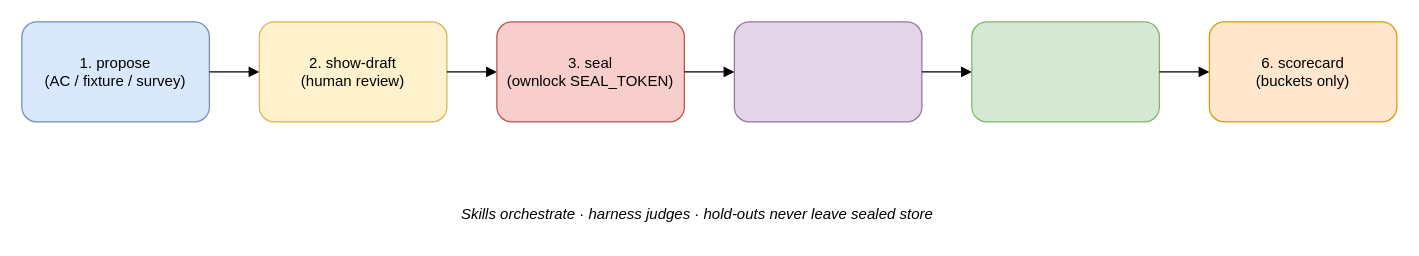
Image size: 1419x256. Some labels were removed from this diagram. The centre of each missing label's shape, as x and y in pixels:
"4. publish (public task card)" goes at (x=827, y=71).
"5. grade (running artifact)" goes at (x=1065, y=71).
